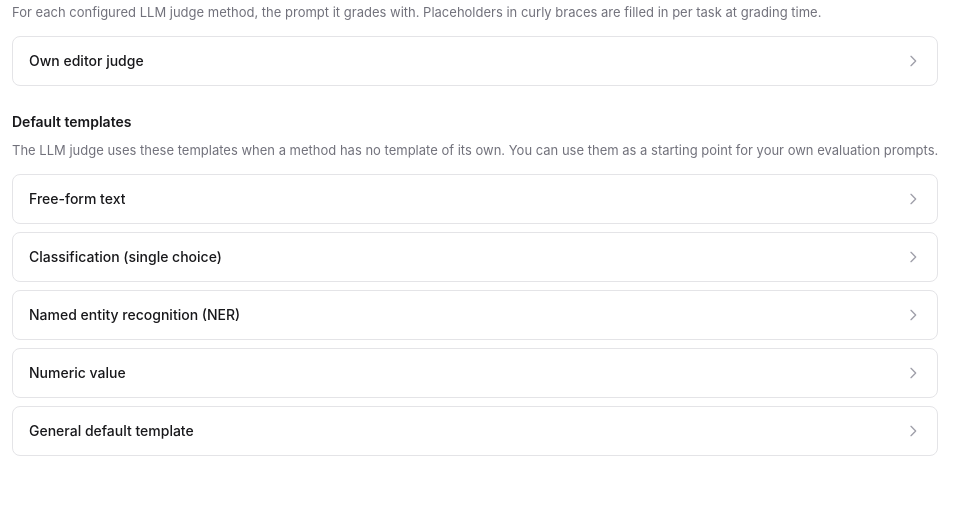
Scenario: EvaluationPromptsOverview › notes that a judge with its own editor builds its prompt at grading time
Click the button "Own editor judge": coordinates (86, 60) [13,37,937,85]
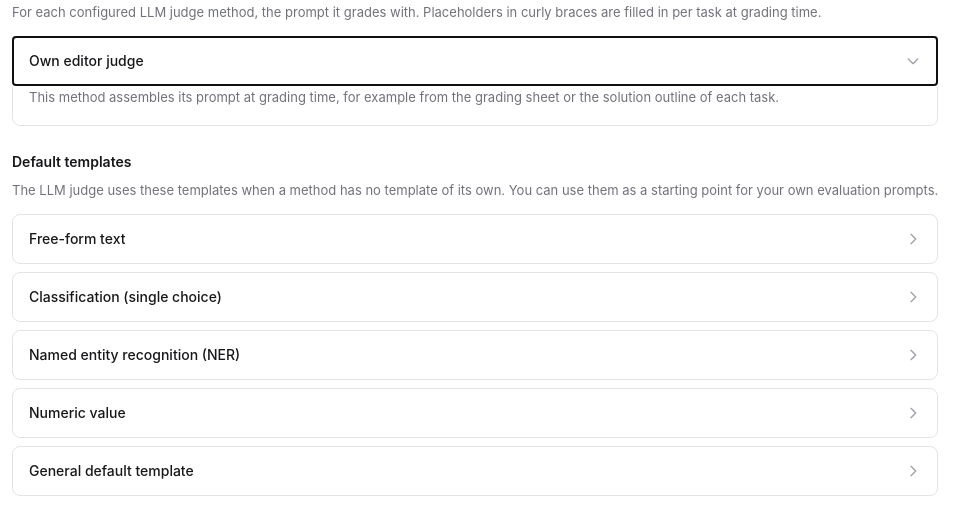
Check: the text "assembles its prompt at grading time" is shown, box [29,89,779,105]
